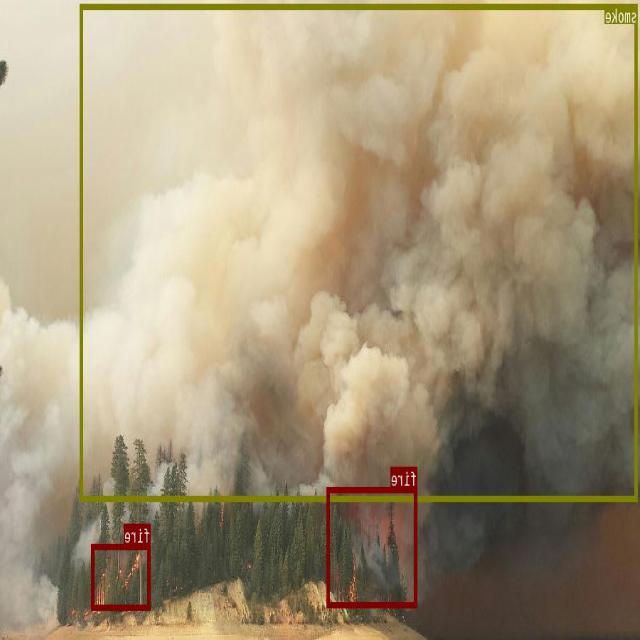fire: (328, 486, 418, 606), (92, 544, 151, 609)
smoke: (81, 4, 638, 500)
